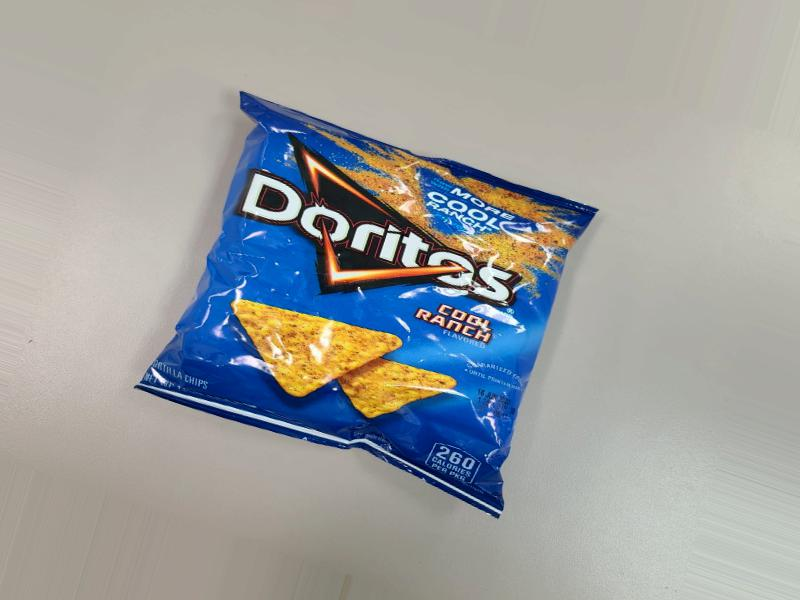doritos: (210, 127, 553, 541)
